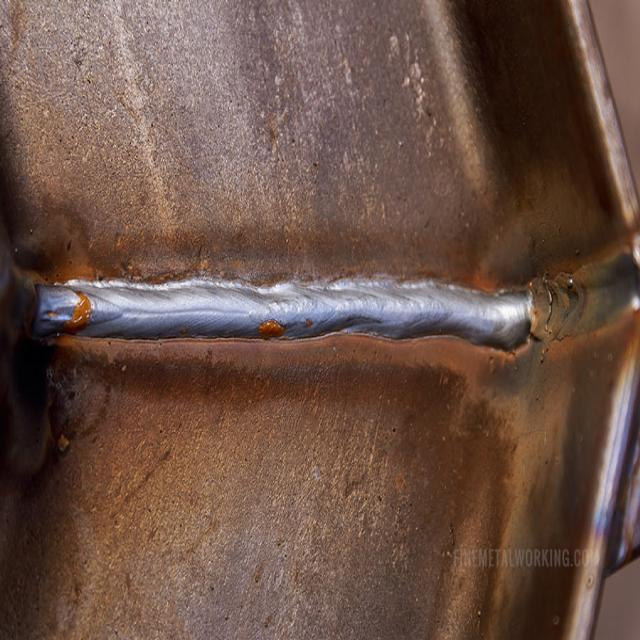Good Weld: (24, 262, 520, 374)
